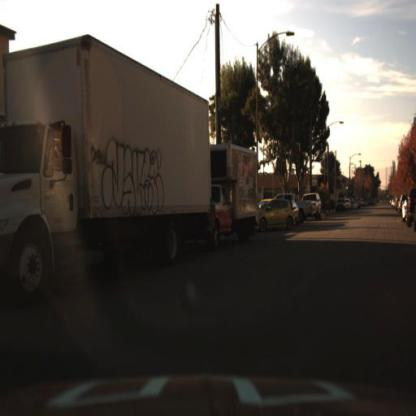car: (254, 197, 292, 233), (258, 197, 298, 229), (309, 188, 325, 218), (300, 196, 315, 221), (334, 197, 346, 215)
truck: (1, 33, 219, 312), (1, 32, 219, 308), (209, 132, 264, 252), (205, 151, 261, 239)
